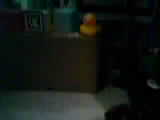duck: (79, 5, 104, 42)
